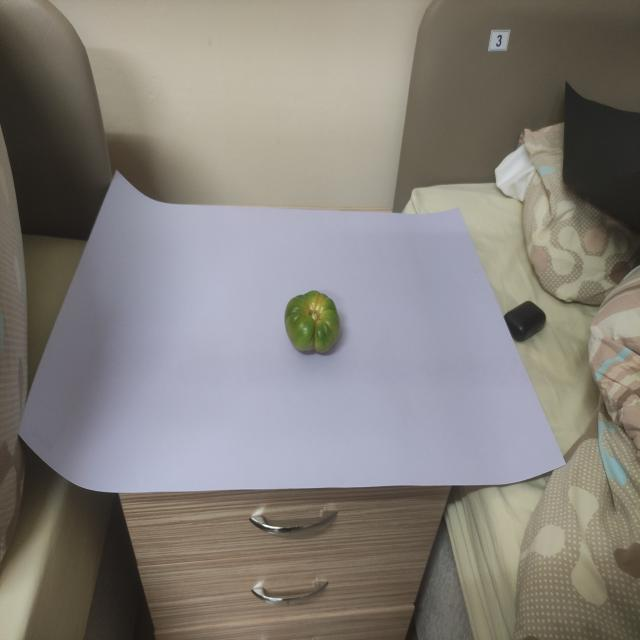unripe tomato: (273, 280, 365, 369)
